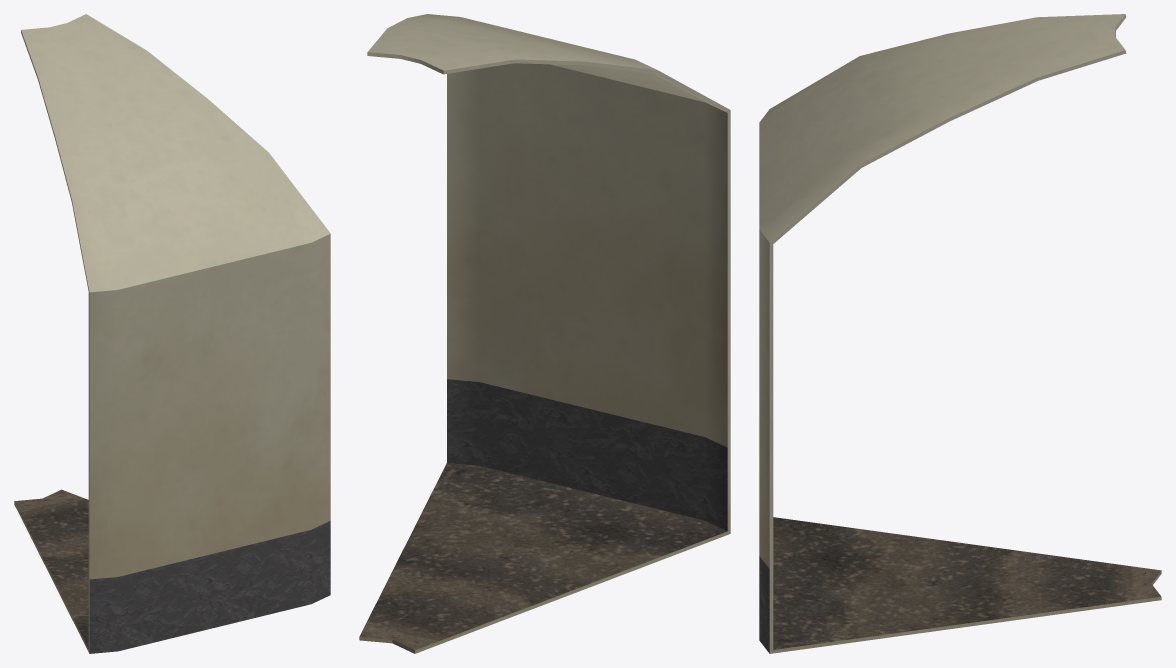
The model's file is wall.fbx.
3 renders of one model, left to right at view 1: azimuth 30°, elevation 25°; view 2: azimuth 150°, elevation 25°; view 3: azimuth 270°, elevation 25°, orthographic. The views are drawn at different scales.
Parts seen in each view (by area): view 1: wall; view 2: wall; view 3: wall.
Boxes of the visible parts, x1,y1,x2,y2 form: wall: [14, 14, 330, 653]; wall: [359, 14, 730, 653]; wall: [759, 14, 1161, 653].
Bounding box in the file's own units: 412 × 796 × 523.
1 material, 1 textured.
